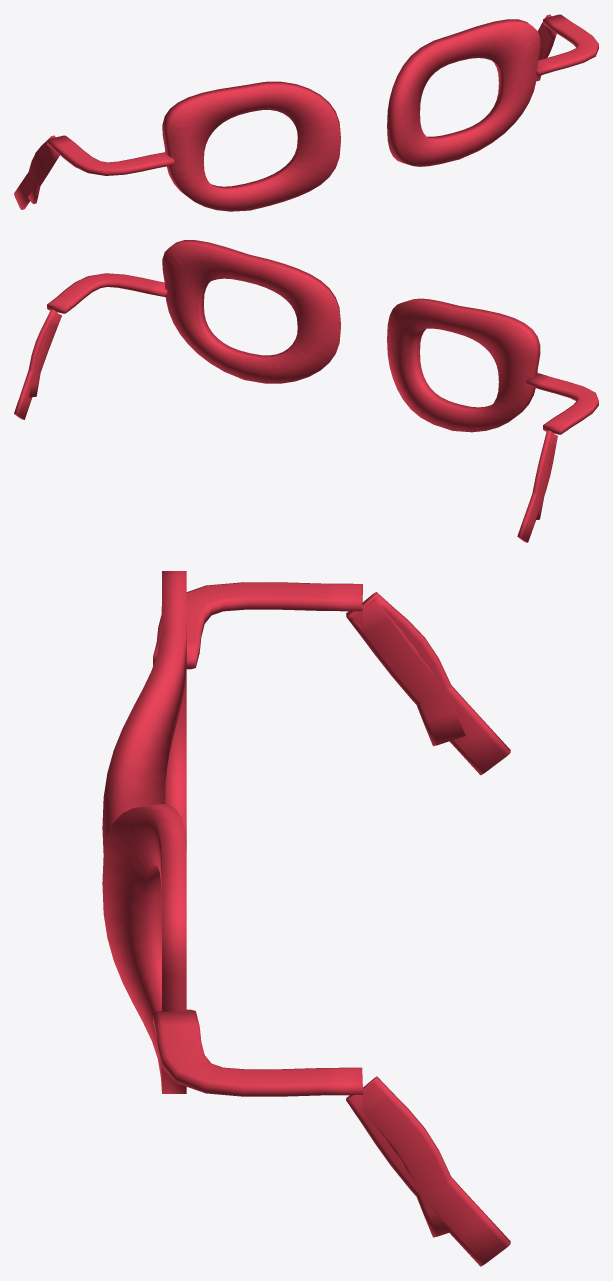
File: hero_mask-koala.glb
3 views of the same model, one above another, from view 1: azimuth 30°, elevation 25°; view 2: azimuth 150°, elevation 25°; view 3: azimuth 270°, elevation 25° (orthographic). The views are drawn at different scales.
Visible parts, largest first — view 1: mask.001, mask, tie.001, tie, tail.003, tail.002, tail.001; view 2: mask, mask.001, tie, tie.001, tail.001, tail.002, tail.003, tail; view 3: mask, mask.001, tie, tail.003, tie.001, tail, tail.001, tail.002.
Part boxes in pixels (x1,y1,x2,y2): mask.001: (162, 81, 340, 211); mask: (387, 19, 540, 166); tie.001: (47, 135, 174, 175); tie: (536, 14, 598, 75); tail.003: (14, 150, 59, 209); tail.002: (28, 135, 55, 203); tail.001: (538, 16, 556, 60); mask: (162, 240, 340, 383); mask.001: (387, 298, 540, 432); tie: (47, 273, 167, 313); tie.001: (526, 373, 598, 434); tail.001: (14, 312, 61, 419); tail.002: (532, 430, 555, 519); tail.003: (517, 434, 557, 542); tail: (28, 309, 61, 397); mask: (102, 804, 186, 1093); mask.001: (102, 571, 186, 853); tie: (153, 1009, 362, 1096); tail.003: (346, 598, 510, 775); tie.001: (153, 582, 362, 669); tail: (362, 1076, 452, 1237); tail.001: (346, 1095, 510, 1266); tail.002: (349, 592, 465, 746).
Bounding box in the file's own units: 1.35 × 0.3604 × 0.46.
